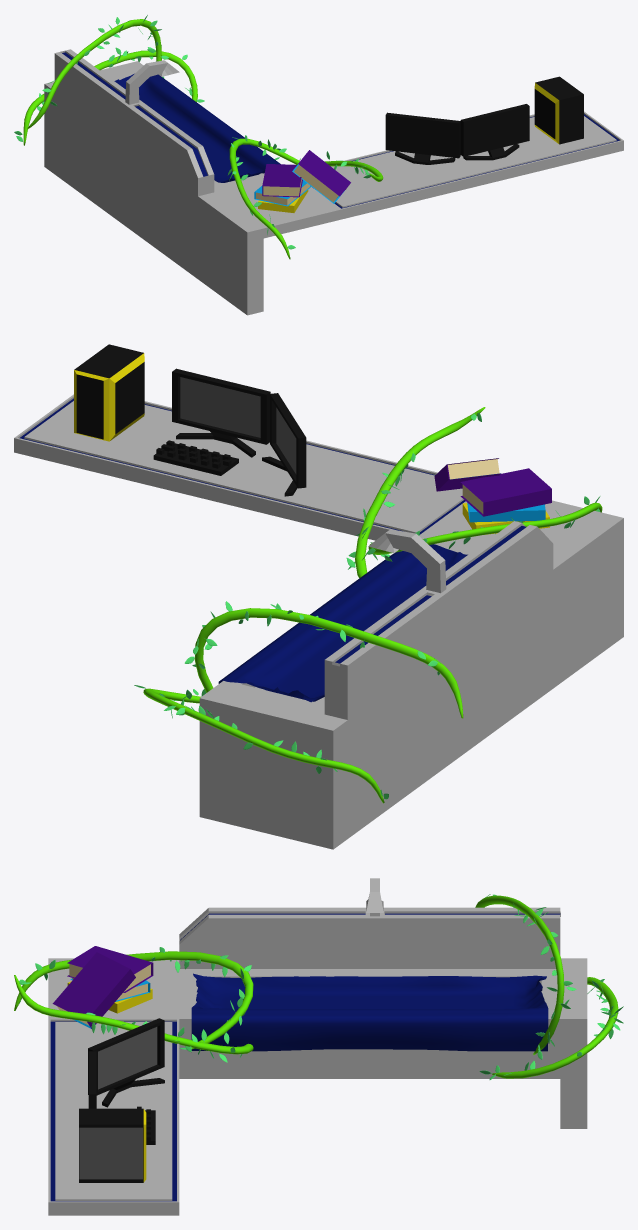
File: Deco_LTable.fbx
3 renders of one model, top to bottom at view 1: azimuth 30°, elevation 25°; view 2: azimuth 150°, elevation 25°; view 3: azimuth 270°, elevation 25°, orthographic. The views are drawn at different scales.
Parts seen in each view (by area): view 1: Cube, Cube.001, BézierCurve, Books.001; view 2: Cube, Cube.001, BézierCurve, Books.001; view 3: Cube, Cube.001, BézierCurve, Books.001.
Part boxes in pixels (x1=…): Cube: x1=44, y1=49, x2=623, y2=315; Cube.001: x1=385, y1=76, x2=583, y2=164; BézierCurve: x1=23, y1=19, x2=383, y2=259; Books.001: x1=254, y1=150, x2=350, y2=212; Cube: x1=14, y1=394, x2=623, y2=849; Cube.001: x1=74, y1=344, x2=306, y2=496; BézierCurve: x1=143, y1=407, x2=602, y2=803; Books.001: x1=434, y1=458, x2=551, y2=534; Cube: x1=48, y1=878, x2=587, y2=1215; Cube.001: x1=79, y1=1018, x2=164, y2=1182; BézierCurve: x1=14, y1=895, x2=618, y2=1078; Books.001: x1=52, y1=946, x2=153, y2=1028.
Size of the model in its own units: 653 by 603 by 224.
